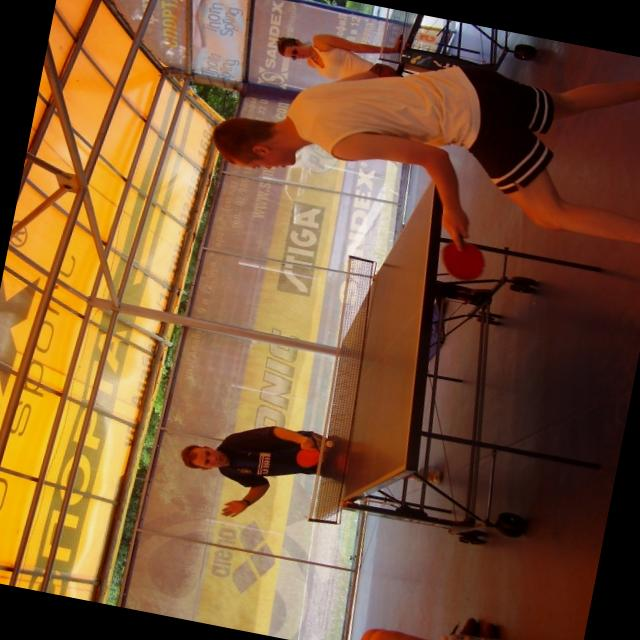TT Net: (305, 253, 385, 529), (377, 7, 413, 66)
TT Racket: (438, 231, 490, 287), (292, 442, 324, 475)
TT Table: (313, 161, 451, 531), (357, 2, 428, 86)
